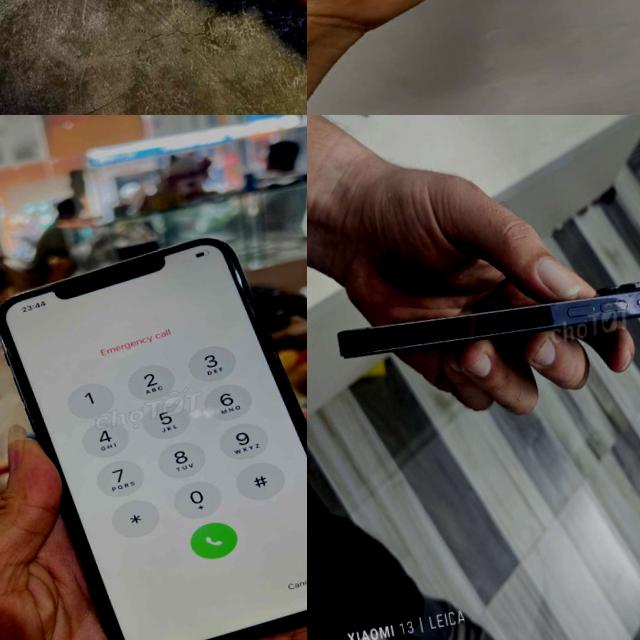gen_11: (0, 209, 307, 640)
gen_14: (323, 244, 640, 405)
